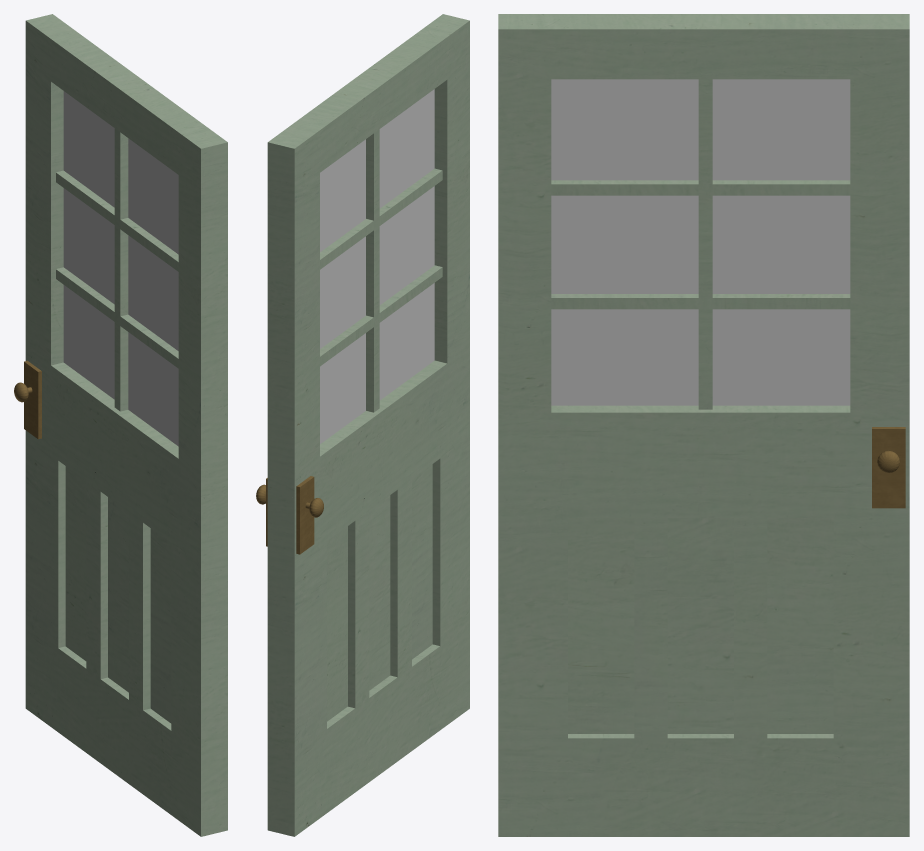
File: SM_WD7_DOOR_2.fbx
The picture shows the model from 3 angles, left to right: view 1: azimuth 30°, elevation 25°; view 2: azimuth 150°, elevation 25°; view 3: azimuth 270°, elevation 25°; orthographic projection. The views are drawn at different scales.
Visible parts, largest first — view 1: SM_WD7_DOOR_2; view 2: SM_WD7_DOOR_2; view 3: SM_WD7_DOOR_2.
Part boxes in pixels (box(x1,y1,x2,y2)): SM_WD7_DOOR_2: box(14, 14, 227, 836); SM_WD7_DOOR_2: box(256, 14, 469, 836); SM_WD7_DOOR_2: box(498, 14, 909, 836).
Bounding box in the file's own units: 20.92 × 98.58 × 214.
Materials: 3 (2 with a texture image).
